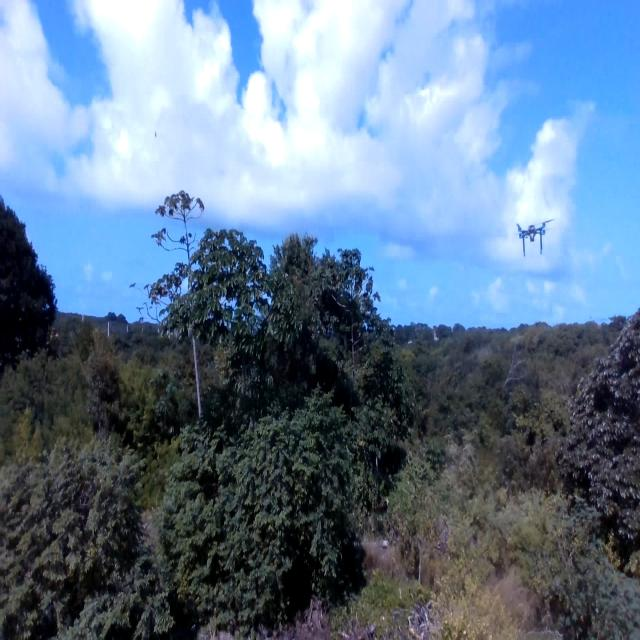-uav-: (509, 214, 569, 266)
